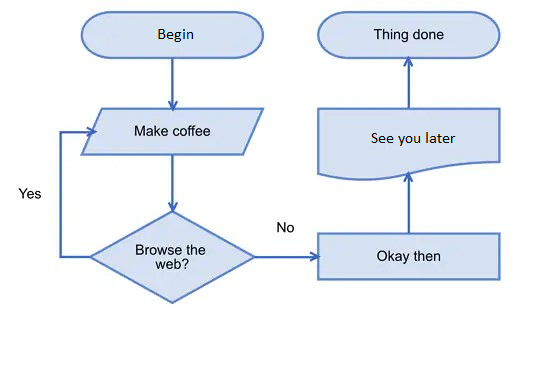arrow: (56, 125, 104, 260), (248, 250, 320, 265), (401, 170, 415, 233), (166, 152, 179, 214), (166, 55, 178, 112), (401, 55, 414, 107)
data: (79, 105, 264, 159)
decision: (87, 210, 256, 306)
process: (314, 106, 503, 182), (315, 230, 503, 284)
terminator: (315, 9, 502, 62), (79, 9, 267, 61)
text: (133, 243, 206, 272), (368, 129, 455, 148), (131, 122, 212, 139), (371, 26, 444, 44), (374, 248, 442, 265), (156, 26, 194, 43), (17, 186, 43, 201), (274, 220, 296, 233)
